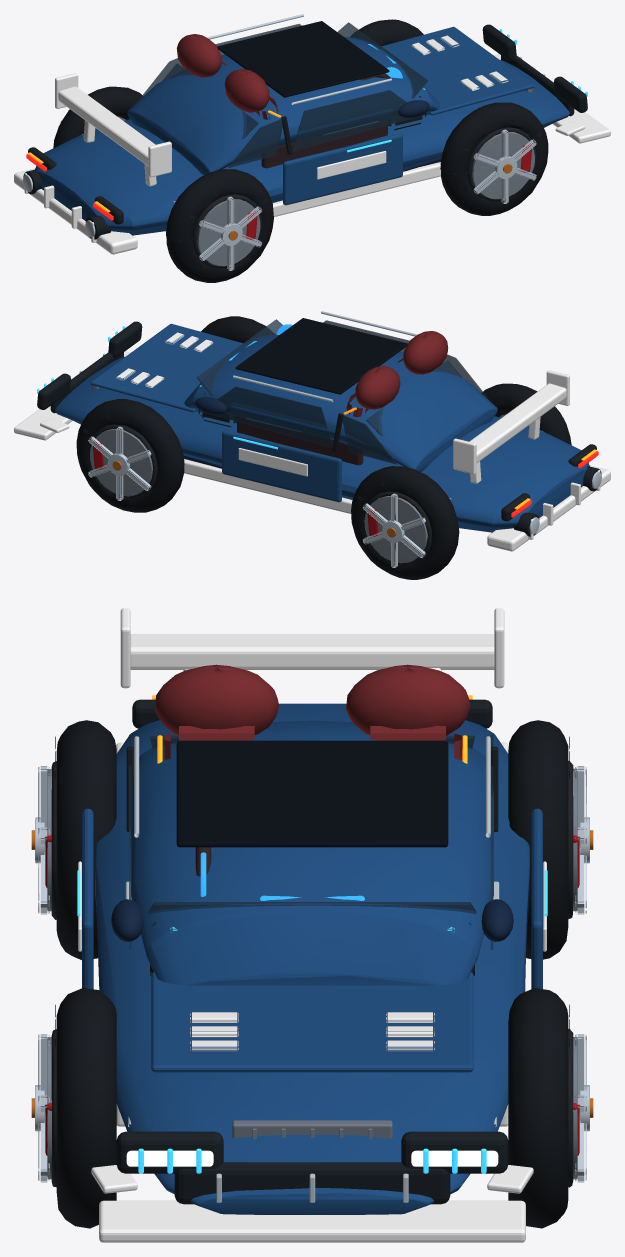
Rendered from spectral.glb.
3 renders of one model, top to bottom at view 1: azimuth 30°, elevation 25°; view 2: azimuth 150°, elevation 25°; view 3: azimuth 270°, elevation 25°, orthographic. The views are drawn at different scales.
Visible parts, largest first — view 1: CABIN_Roof_Shell, BODY_Shell_Hero, Panoramic_Roof_Glass, Hood_Center_Panel, Front_Left_Tire, Rear_Left_Tire, Door_Skin_L, L_Glass_Main, Active_Wing_Blade, Front_Left_Rim_Base, Rear_Left_Rim_Base, Door_Panel_-0.72 (+20 smaller); view 2: CABIN_Roof_Shell, BODY_Shell_Hero, Panoramic_Roof_Glass, Hood_Center_Panel, Rear_Right_Tire, Front_Right_Tire, Door_Skin_R, R_Glass_Main, Active_Wing_Blade, Front_Right_Rim_Base, Rear_Right_Rim_Base, Door_Panel_0.72 (+20 smaller); view 3: CABIN_Roof_Shell, BODY_Shell_Hero, Panoramic_Roof_Glass, Hood_Center_Panel, Front_Splitter, Front_Right_Tire, Front_Left_Tire, Active_Wing_Blade, Rear_Right_Tire, Rear_Left_Tire, Front_Grille_Deep, Driver_Headrest (+21 smaller).
Boxes of the visible parts, x1,y1,x2,y2 form: CABIN_Roof_Shell: (127,37,441,174); BODY_Shell_Hero: (35,60,569,235); Panoramic_Roof_Glass: (217,21,389,97); Hood_Center_Panel: (381,26,534,115); Front_Left_Tire: (440,102,548,215); Rear_Left_Tire: (166,169,273,282); Door_Skin_L: (283,133,402,205); L_Glass_Main: (292,90,424,151); Active_Wing_Blade: (58,86,155,165); Front_Left_Rim_Base: (472,132,534,199); Rear_Left_Rim_Base: (197,199,260,266); Door_Panel_-0.72: (261,120,387,168); CABIN_Roof_Shell: (183,334,497,471); BODY_Shell_Hero: (55,357,589,532); Panoramic_Roof_Glass: (235,318,407,394); Hood_Center_Panel: (90,323,243,412); Rear_Right_Tire: (351,466,459,579); Front_Right_Tire: (76,399,184,512); Door_Skin_R: (222,430,341,502); R_Glass_Main: (201,386,332,447); Active_Wing_Blade: (469,383,566,462); Front_Right_Rim_Base: (90,429,152,496); Rear_Right_Rim_Base: (364,496,428,563); Door_Panel_0.72: (237,417,363,465); CABIN_Roof_Shell: (131,720,493,985); BODY_Shell_Hero: (95,703,529,1214); Panoramic_Roof_Glass: (176,740,448,847); Hood_Center_Panel: (151,972,473,1072); Front_Splitter: (99,1200,525,1242); Front_Right_Tire: (508,988,568,1228); Front_Left_Tire: (56,988,116,1228); Active_Wing_Blade: (130,634,494,669); Rear_Right_Tire: (508,720,568,959); Rear_Left_Tire: (56,720,116,959); Front_Grille_Deep: (174,1162,450,1204); Driver_Headrest: (155,664,278,736).
Bounding box in the file's own units: 5.19 × 1.68 × 2.53.
